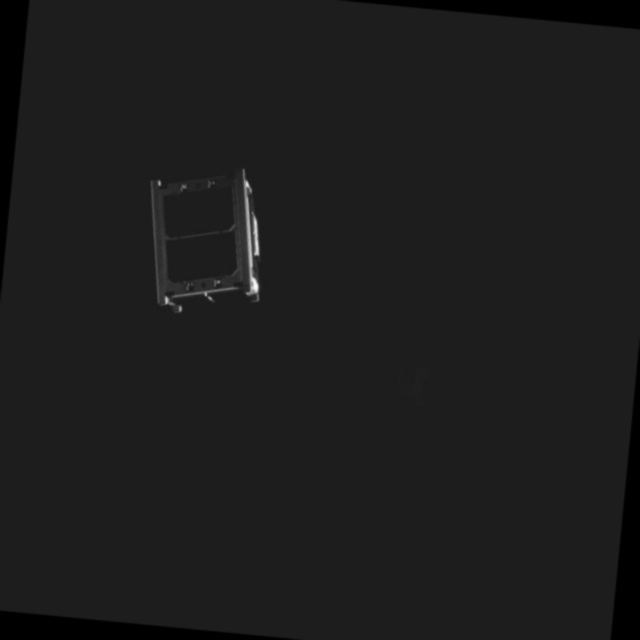medium_debris: (134, 158, 278, 329)
